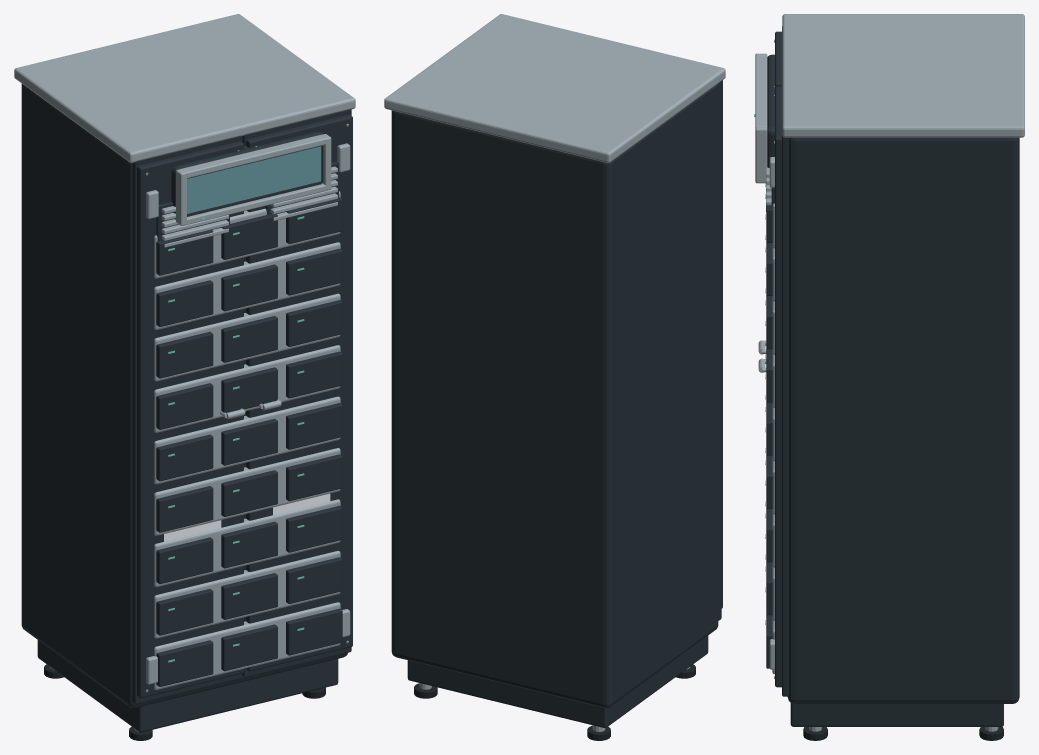
File: SF_DataRecorderRack.fbx
The picture shows the model from 3 angles, left to right: view 1: azimuth 30°, elevation 25°; view 2: azimuth 150°, elevation 25°; view 3: azimuth 270°, elevation 25°; orthographic projection. The views are drawn at different scales.
Visible parts, largest first — view 1: SF_DataRecorderRack; view 2: SF_DataRecorderRack; view 3: SF_DataRecorderRack.
Part boxes in pixels (bbox=[...]): SF_DataRecorderRack: bbox=[14, 14, 355, 740]; SF_DataRecorderRack: bbox=[384, 14, 725, 740]; SF_DataRecorderRack: bbox=[754, 14, 1024, 740].
Size of the model in its own units: 87.5 by 222 by 87.65.
